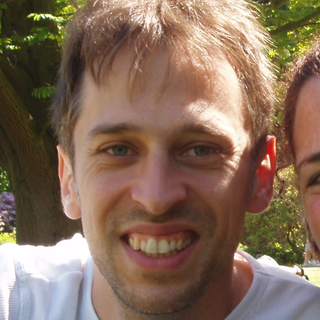eye: (94, 139, 142, 163), (176, 139, 225, 161)
